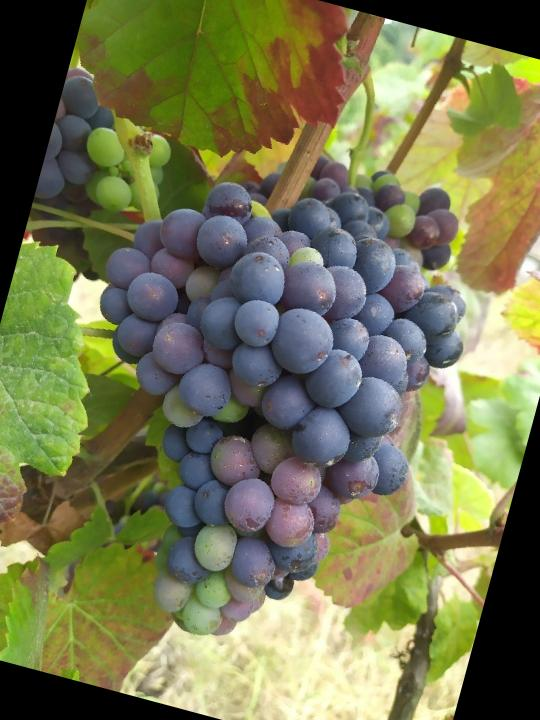grape: (18, 149, 491, 681)
